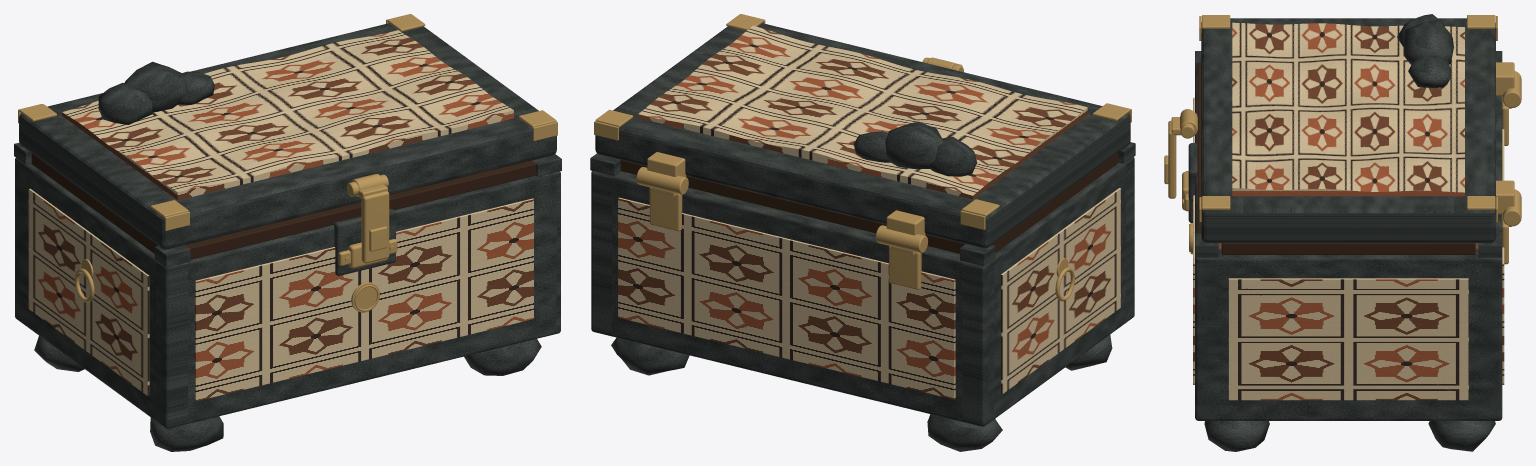
Rendered from samoa.glb.
3 views of the same model, side by side, from view 1: azimuth 30°, elevation 25°; view 2: azimuth 150°, elevation 25°; view 3: azimuth 270°, elevation 25° (orthographic).
Parts seen in each view (by area): view 1: Siapo / body panel, Siapo / lid cloth, Lid / polished slab, Lava / wall, Siapo / side panel, Lava / side, Mineral seam / long, Lava / lid mound 1, Lava foot, Lava foot.002, Lava / lid mound 0, Latch / lifting hasp (+8 smaller); view 2: Siapo / body panel.001, Siapo / lid cloth, Lid / polished slab, Lava / wall.001, Siapo / side panel, Lava / side, Lava / side.001, Mineral seam / long.001, Lava / lid mound 1, Lava foot.001, Lava foot.003, Lava / wall (+12 smaller); view 3: Siapo / lid cloth, Siapo / side panel.001, Lid / polished slab, Lava / side.001, Mineral seam / side.001, Lava / wall.001, Lava / wall, Lava / lid mound 1, Lava foot.002, Lava foot.003, Lava / lid mound 2, Mineral seam / long (+14 smaller).
Boxes of the visible parts, left/top/right/bottom form: Siapo / body panel: left=195, top=198, right=533, bottom=401; Siapo / lid cloth: left=62, top=30, right=513, bottom=200; Lid / polished slab: left=19, top=23, right=556, bottom=249; Lava / wall: left=156, top=175, right=558, bottom=426; Siapo / side panel: left=28, top=188, right=149, bottom=395; Lava / side: left=15, top=159, right=187, bottom=428; Mineral seam / long: left=185, top=160, right=536, bottom=259; Lava / lid mound 1: left=124, top=61, right=186, bottom=112; Lava foot: left=150, top=416, right=223, bottom=451; Lava foot.002: left=464, top=339, right=541, bottom=375; Lava / lid mound 0: left=98, top=83, right=152, bottom=124; Latch / lifting hasp: left=361, top=191, right=389, bottom=263; Siapo / body panel.001: left=618, top=197, right=955, bottom=399; Siapo / lid cloth: left=638, top=25, right=1087, bottom=199; Lid / polished slab: left=595, top=23, right=1130, bottom=248; Lava / wall.001: left=594, top=171, right=994, bottom=426; Siapo / side panel: left=1001, top=188, right=1120, bottom=394; Lava / side: left=962, top=162, right=1134, bottom=426; Lava / side.001: left=591, top=171, right=612, bottom=336; Mineral seam / long.001: left=620, top=160, right=965, bottom=253; Lava / lid mound 1: left=885, top=121, right=943, bottom=168; Lava foot.001: left=927, top=414, right=1002, bottom=451; Lava foot.003: left=611, top=337, right=689, bottom=375; Lava / wall: left=1125, top=157, right=1134, bottom=322; Siapo / lid cloth: left=1232, top=22, right=1464, bottom=196; Siapo / side panel.001: left=1228, top=278, right=1468, bottom=400; Lid / polished slab: left=1201, top=18, right=1495, bottom=242; Lava / side.001: left=1195, top=250, right=1502, bottom=420; Mineral seam / side.001: left=1221, top=243, right=1475, bottom=254; Lava / wall.001: left=1482, top=96, right=1502, bottom=420; Lava / wall: left=1195, top=75, right=1215, bottom=420; Lava / lid mound 1: left=1403, top=19, right=1453, bottom=64; Lava foot.002: left=1204, top=421, right=1269, bottom=451; Lava foot.003: left=1428, top=421, right=1495, bottom=451; Lava / lid mound 2: left=1408, top=55, right=1451, bottom=87; Mineral seam / long: left=1197, top=62, right=1201, bottom=233.
Bounding box in the file's own units: 3.81 × 2.67 × 2.88.
5 materials, 2 textured.
